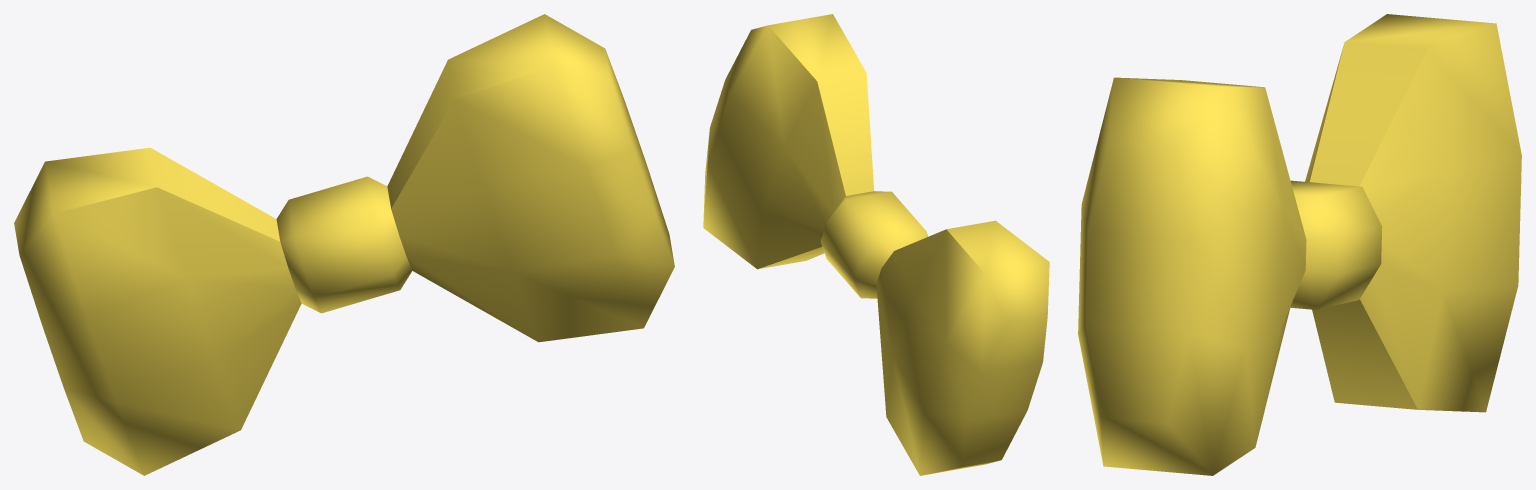
Rendered from bow_yellow.fbx.
3 views of the same model, side by side, from view 1: azimuth 30°, elevation 25°; view 2: azimuth 150°, elevation 25°; view 3: azimuth 270°, elevation 25° (orthographic). The views are drawn at different scales.
Parts seen in each view (by area): view 1: bow_yellow; view 2: bow_yellow; view 3: bow_yellow.
Part boxes in pixels (x1,y1,x2,y2): bow_yellow: [14, 14, 674, 475]; bow_yellow: [703, 14, 1049, 475]; bow_yellow: [1078, 14, 1521, 475].
Bounding box in the file's own units: 54.08 × 40.68 × 31.81.
Materials: 1 (1 with a texture image).
